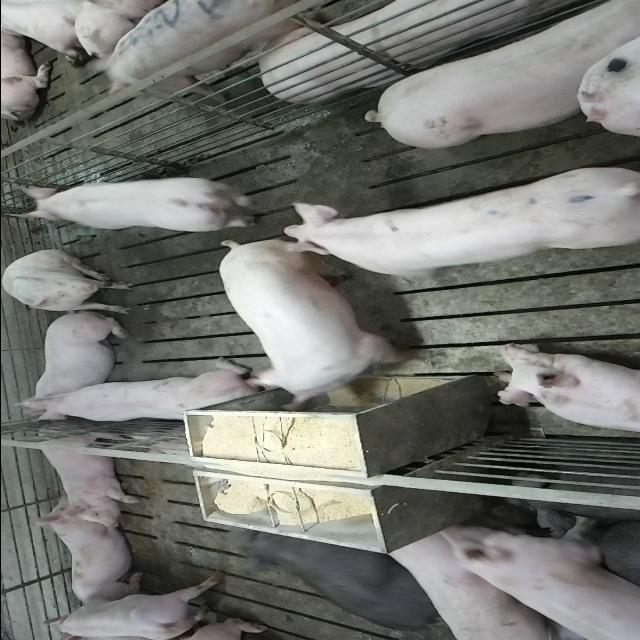Feeding: (224, 234, 422, 410)
Lateral_lying: (259, 0, 603, 100)
Sitting: (14, 367, 266, 428), (3, 250, 138, 314)
Standing: (280, 164, 638, 280), (362, 4, 636, 152), (438, 515, 638, 638), (88, 0, 328, 94), (247, 531, 450, 637), (383, 524, 565, 638), (16, 179, 270, 237)
Sternal_lying: (491, 346, 640, 437), (38, 567, 228, 638), (31, 508, 148, 606), (21, 316, 123, 418)
